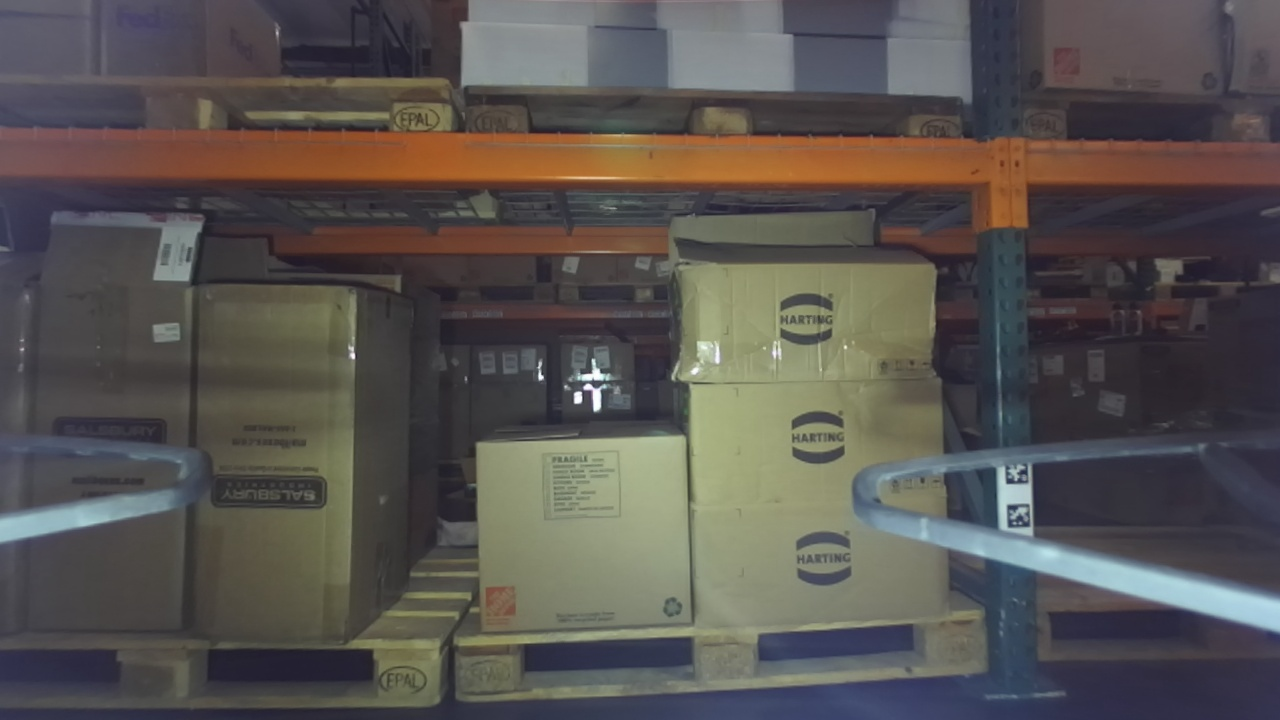box: (180, 263, 410, 659), (36, 211, 210, 673), (666, 193, 953, 387), (461, 417, 705, 638), (681, 489, 970, 644), (670, 370, 963, 507)
